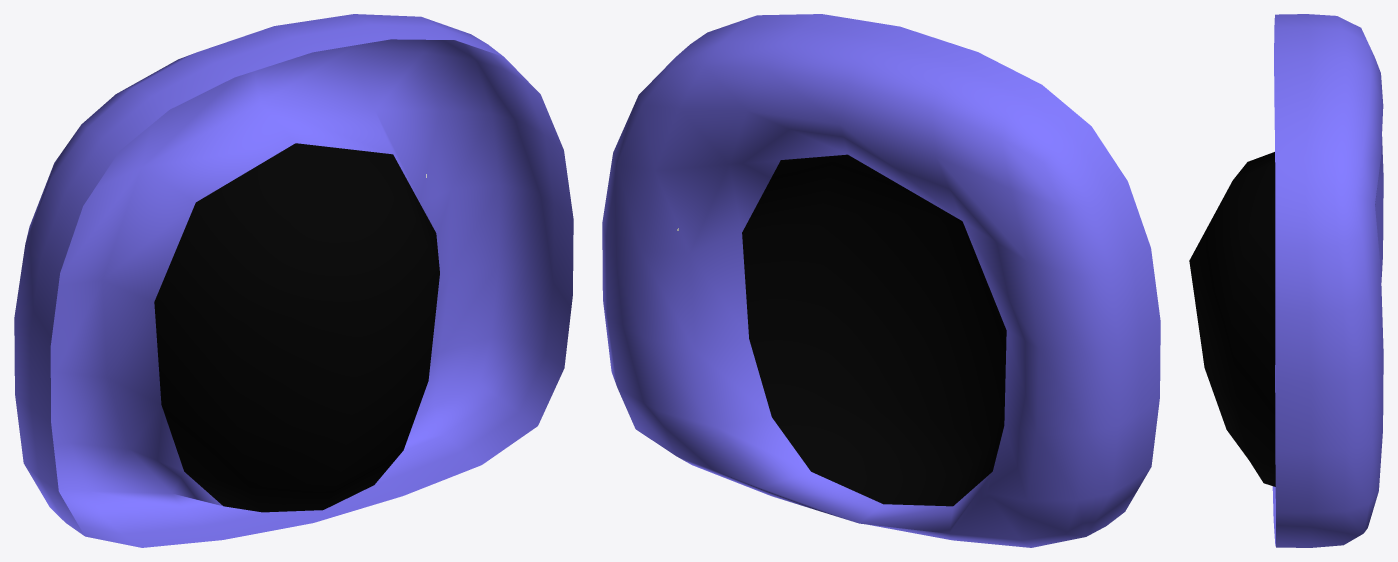
The model's file is hole.gltf.
3 renders of one model, left to right at view 1: azimuth 30°, elevation 25°; view 2: azimuth 150°, elevation 25°; view 3: azimuth 270°, elevation 25°, orthographic. The views are drawn at different scales.
Parts seen in each view (by area): view 1: Cube; view 2: Cube; view 3: Cube.
Part boxes in pixels (bbox=[...]): Cube: bbox=[14, 14, 573, 547]; Cube: bbox=[602, 14, 1160, 547]; Cube: bbox=[1189, 14, 1383, 547].
Bounding box in the file's own units: 1.54 × 1.33 × 0.5447.
Materials: 1 (1 with a texture image).
